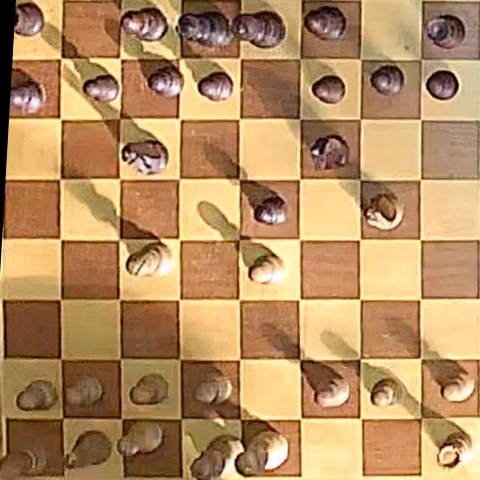black-bishop: (121, 7, 168, 41), (304, 5, 347, 40)
black-king: (230, 11, 285, 47)
black-knight: (122, 140, 168, 175), (310, 135, 349, 170)
black-pawn: (10, 80, 46, 114), (148, 66, 183, 98), (199, 71, 233, 102), (370, 65, 404, 96), (426, 70, 459, 100), (312, 75, 346, 104), (254, 196, 288, 225), (84, 75, 119, 103)
black-queen: (174, 11, 232, 46)
black-rook: (425, 14, 465, 49), (15, 2, 44, 36)
white-bishop: (118, 421, 164, 457), (126, 242, 172, 277)
white-king: (235, 431, 289, 476)
white-knight: (67, 430, 112, 469), (364, 193, 403, 230)
white-pawn: (245, 250, 285, 287), (65, 375, 104, 408), (17, 379, 57, 411), (129, 374, 168, 404), (315, 377, 352, 408), (195, 375, 232, 405), (440, 370, 473, 402), (371, 378, 403, 408)
white-queen: (187, 433, 241, 480)
white-rook: (437, 432, 473, 469), (0, 449, 46, 477)
